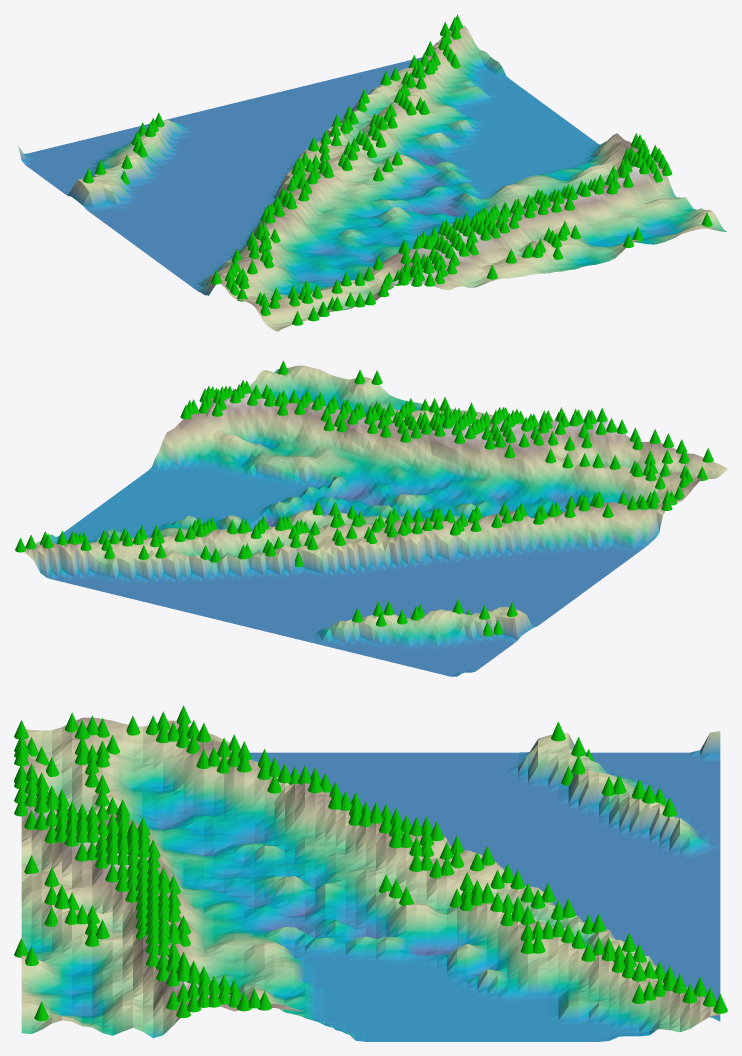
Rendered from 000555_with_tree.glb.
3 renders of one model, top to bottom at view 1: azimuth 30°, elevation 25°; view 2: azimuth 150°, elevation 25°; view 3: azimuth 270°, elevation 25°, orthographic. The views are drawn at different scales.
Visible parts, largest first — view 1: terrain, trees; view 2: terrain, trees; view 3: terrain, trees.
Boxes of the visible parts, x1=… form: terrain: x1=18, y1=25, x2=727, y2=331; trees: x1=83, y1=14, x2=712, y2=325; terrain: x1=14, y1=365, x2=727, y2=676; trees: x1=15, y1=360, x2=713, y2=636; terrain: x1=21, y1=717, x2=720, y2=1041; trees: x1=14, y1=705, x2=727, y2=1021.
Bounding box in the file's own units: 0.0187 × 0.00202 × 0.019.
